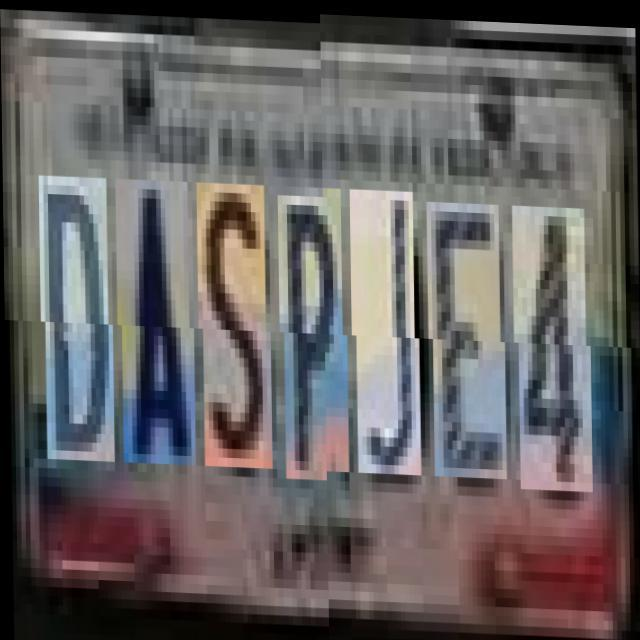4: (516, 210, 592, 496)
A: (119, 178, 194, 464)
D: (42, 175, 114, 461)
E: (430, 206, 506, 484)
J: (354, 195, 420, 481)
P: (282, 192, 348, 478)
S: (200, 180, 271, 467)
